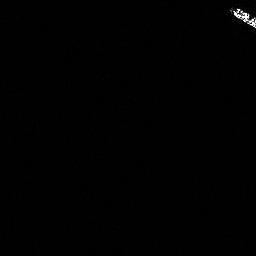ship: (229, 6, 256, 29)
